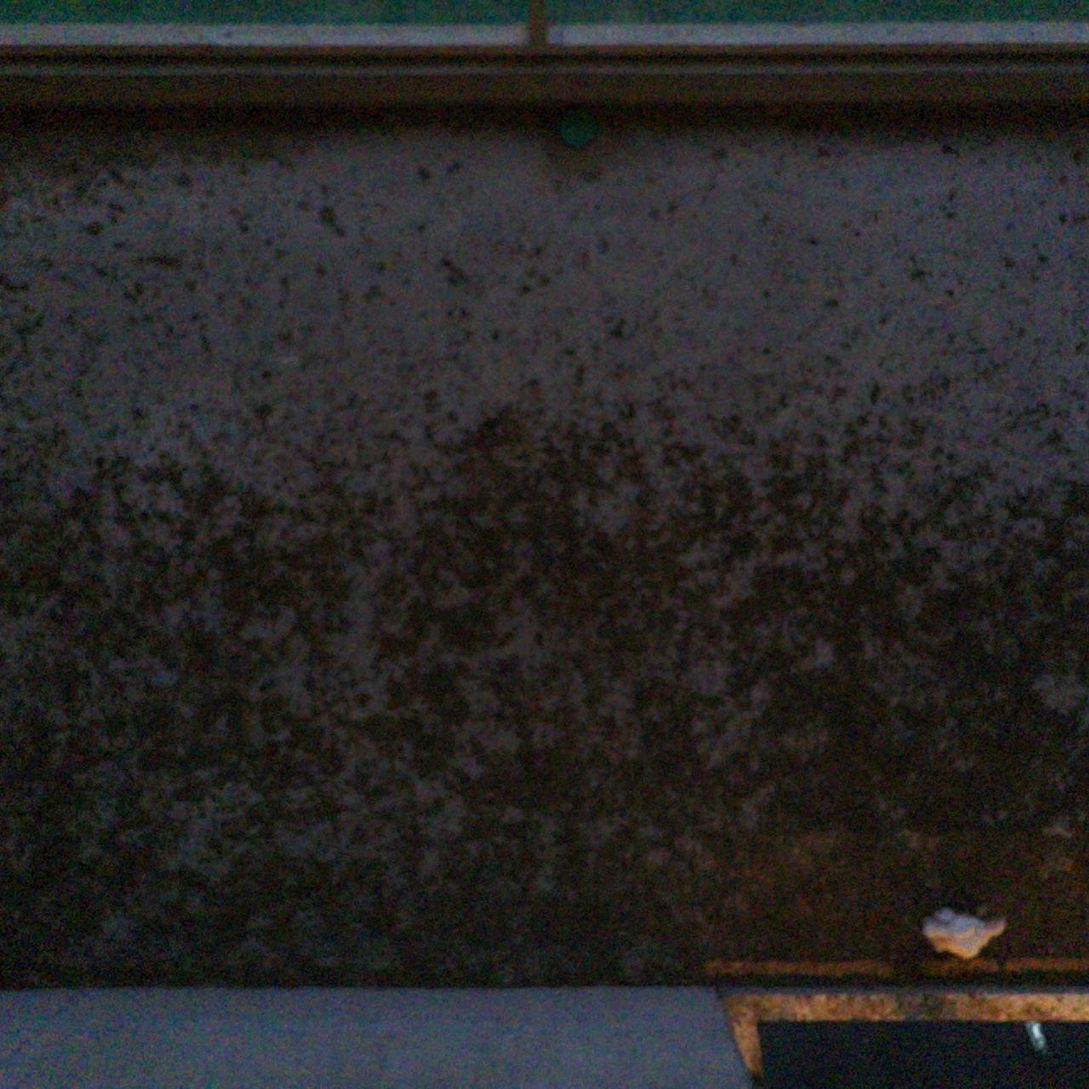chicken: (912, 893, 1012, 973)
